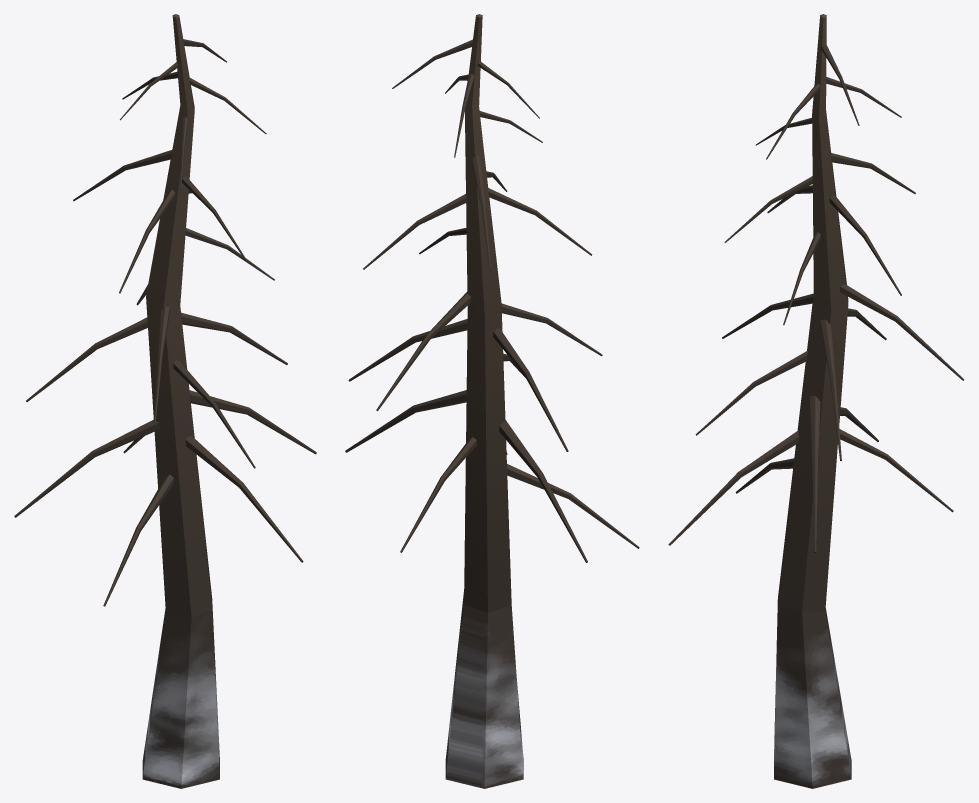
The model's file is SM_LeaflessTree_03.fbx.
3 views of the same model, side by side, from view 1: azimuth 30°, elevation 25°; view 2: azimuth 150°, elevation 25°; view 3: azimuth 270°, elevation 25° (orthographic).
Parts seen in each view (by area): view 1: SM_LeaflessTree_03; view 2: SM_LeaflessTree_03; view 3: SM_LeaflessTree_03.
Part boxes in pixels (x1,y1,x2,y2): SM_LeaflessTree_03: [14, 14, 316, 788]; SM_LeaflessTree_03: [345, 14, 639, 788]; SM_LeaflessTree_03: [668, 14, 964, 788].
Bounding box in the file's own units: 410 × 1087 × 386.
